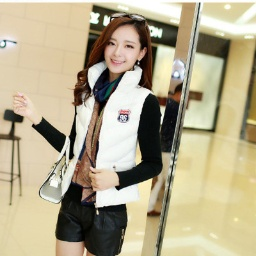face: (86, 12, 152, 86)
